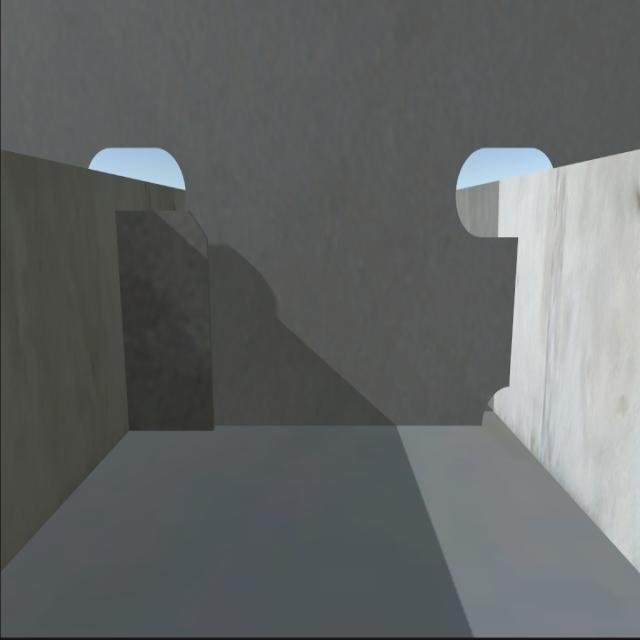fillet_hole: (476, 384, 514, 432)
fillet_yong_jeop_jang: (133, 422, 484, 435)
longi_yong_jeop_jang: (116, 212, 138, 432), (507, 237, 521, 380)
plate_CP03: (117, 200, 214, 430)
